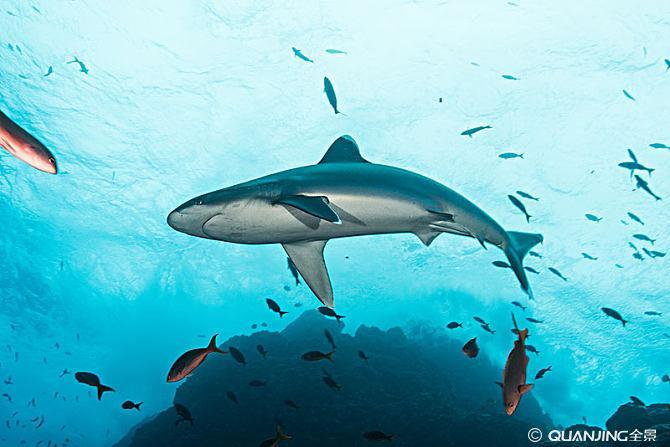fish: (150, 132, 554, 306)
